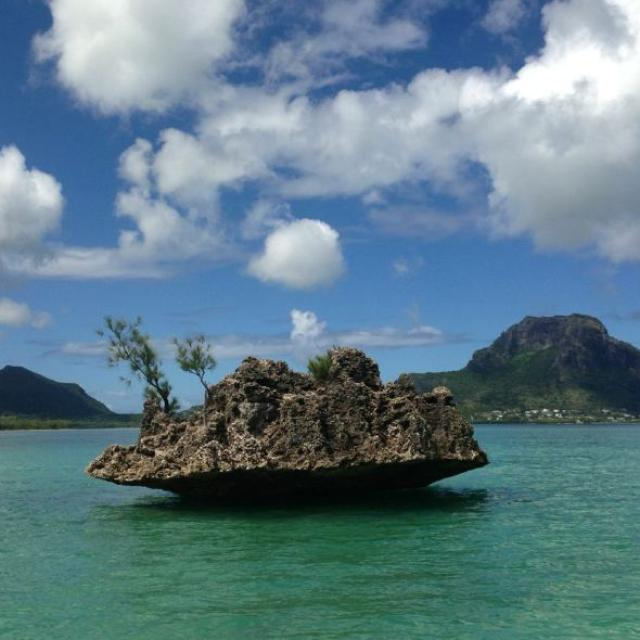island: (390, 297, 640, 430), (0, 352, 155, 429)
